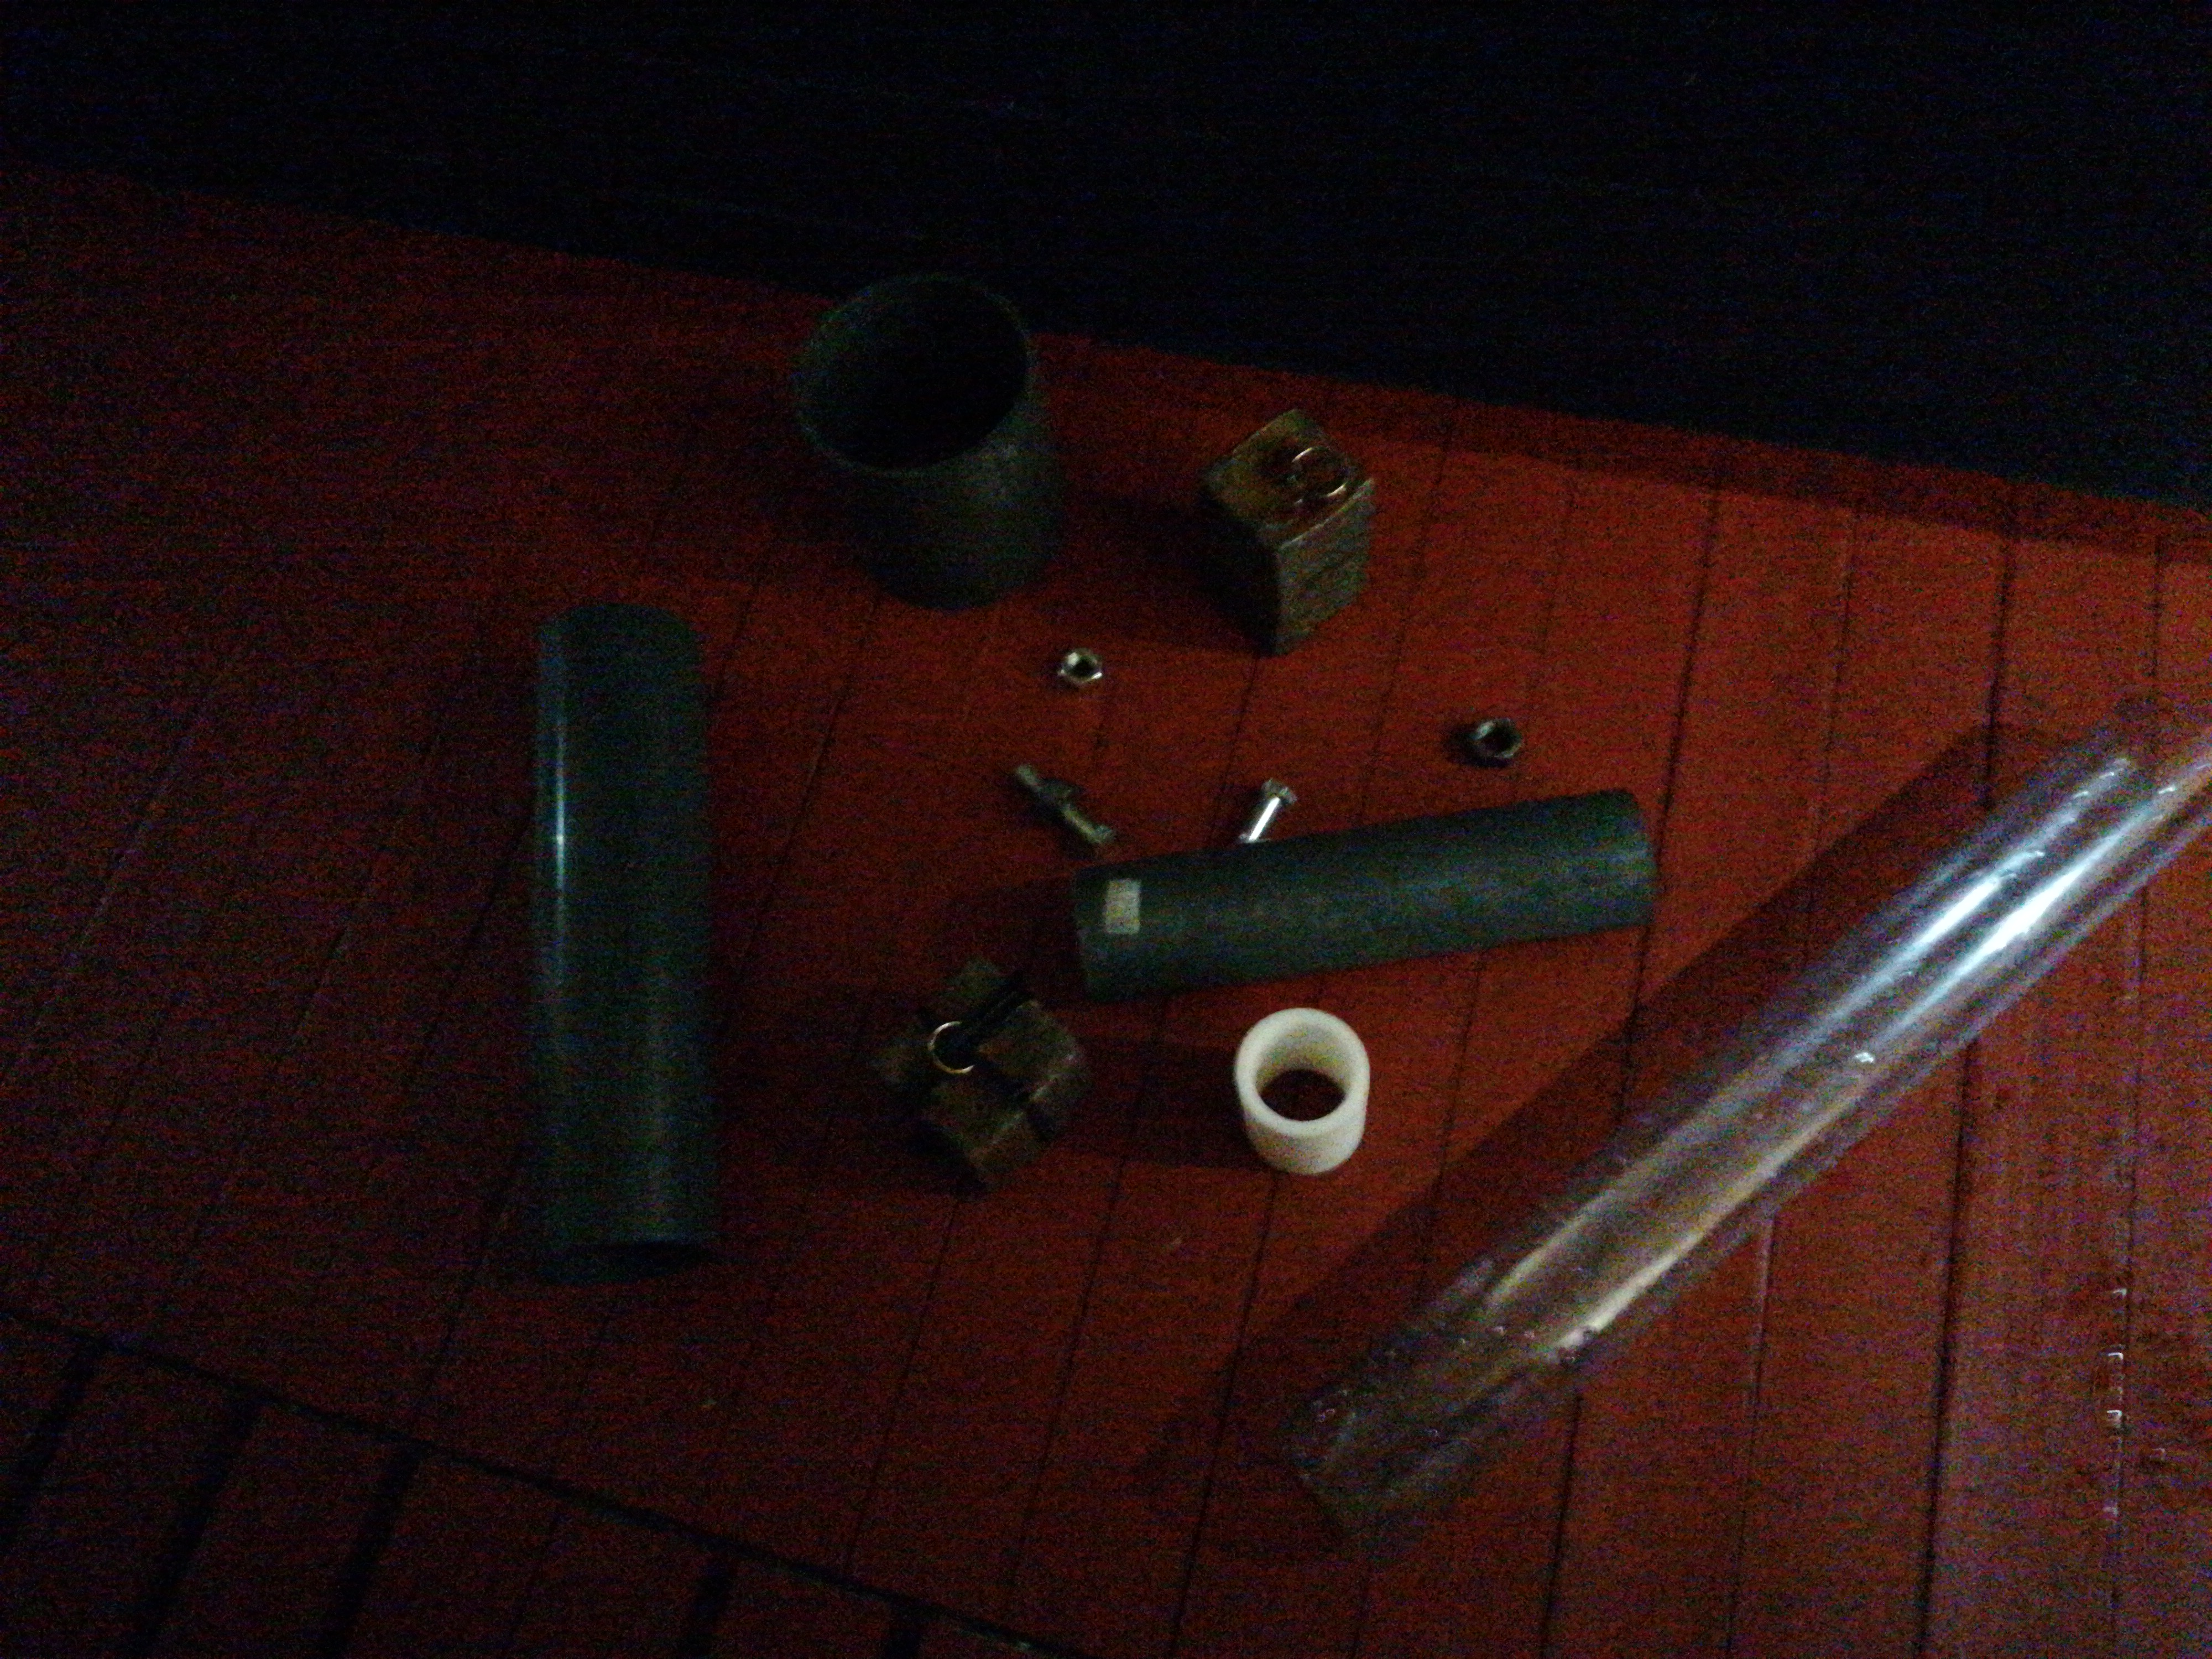bolt: (1019, 765, 1111, 850), (1237, 777, 1294, 845)
led_block: (867, 955, 1094, 1194), (1205, 406, 1381, 659)
nut: (1467, 716, 1526, 767), (1057, 647, 1106, 694), (1031, 777, 1076, 823)
pipe: (1282, 697, 2212, 1558), (510, 598, 718, 1284), (1071, 788, 1655, 1002), (791, 274, 1062, 605), (1233, 1006, 1371, 1178)
